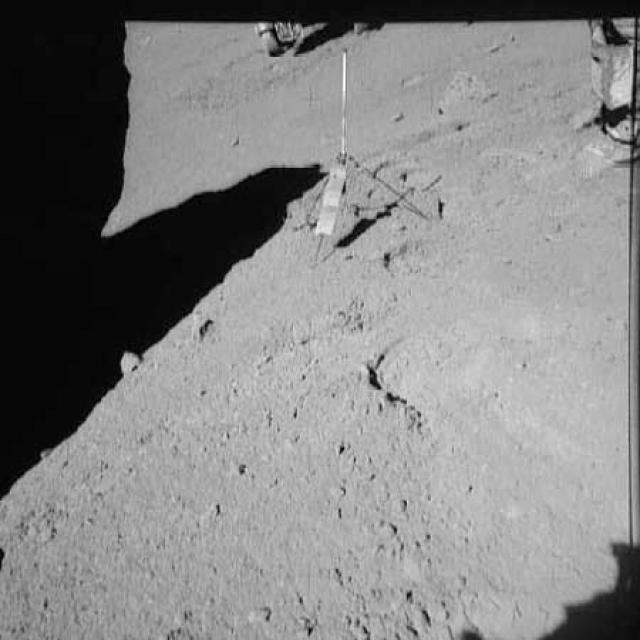artifact: (300, 44, 432, 260), (570, 14, 639, 172), (245, 9, 393, 52)
rock: (108, 334, 156, 381)
